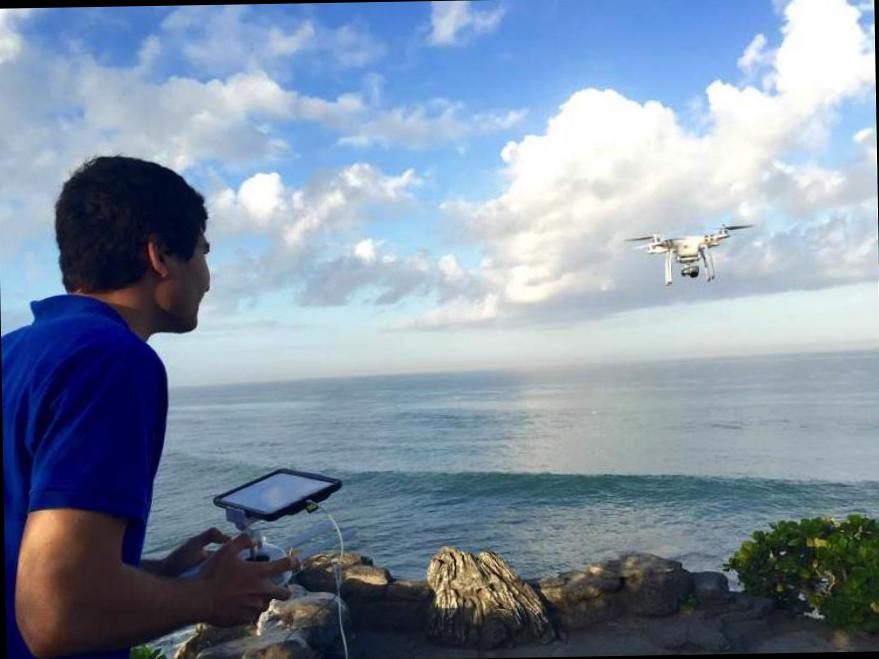drone: (621, 218, 758, 284)
